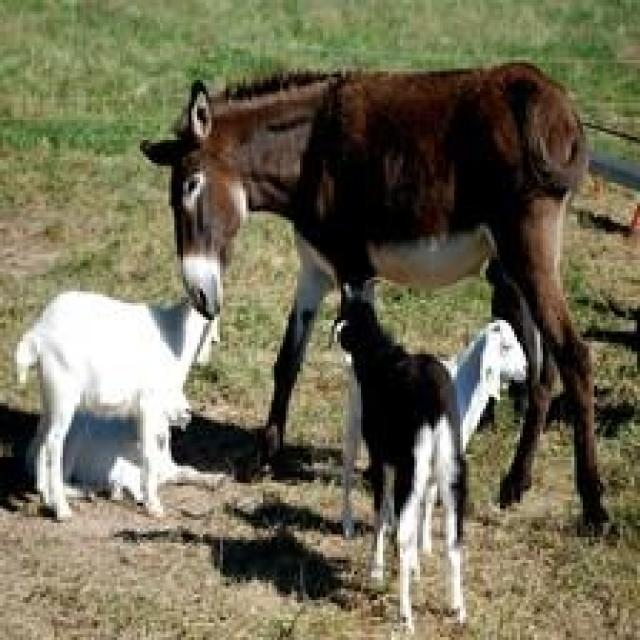Donkey: (137, 60, 612, 537)
